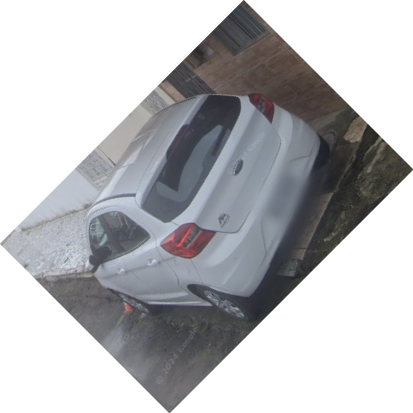car: (82, 92, 333, 325)
